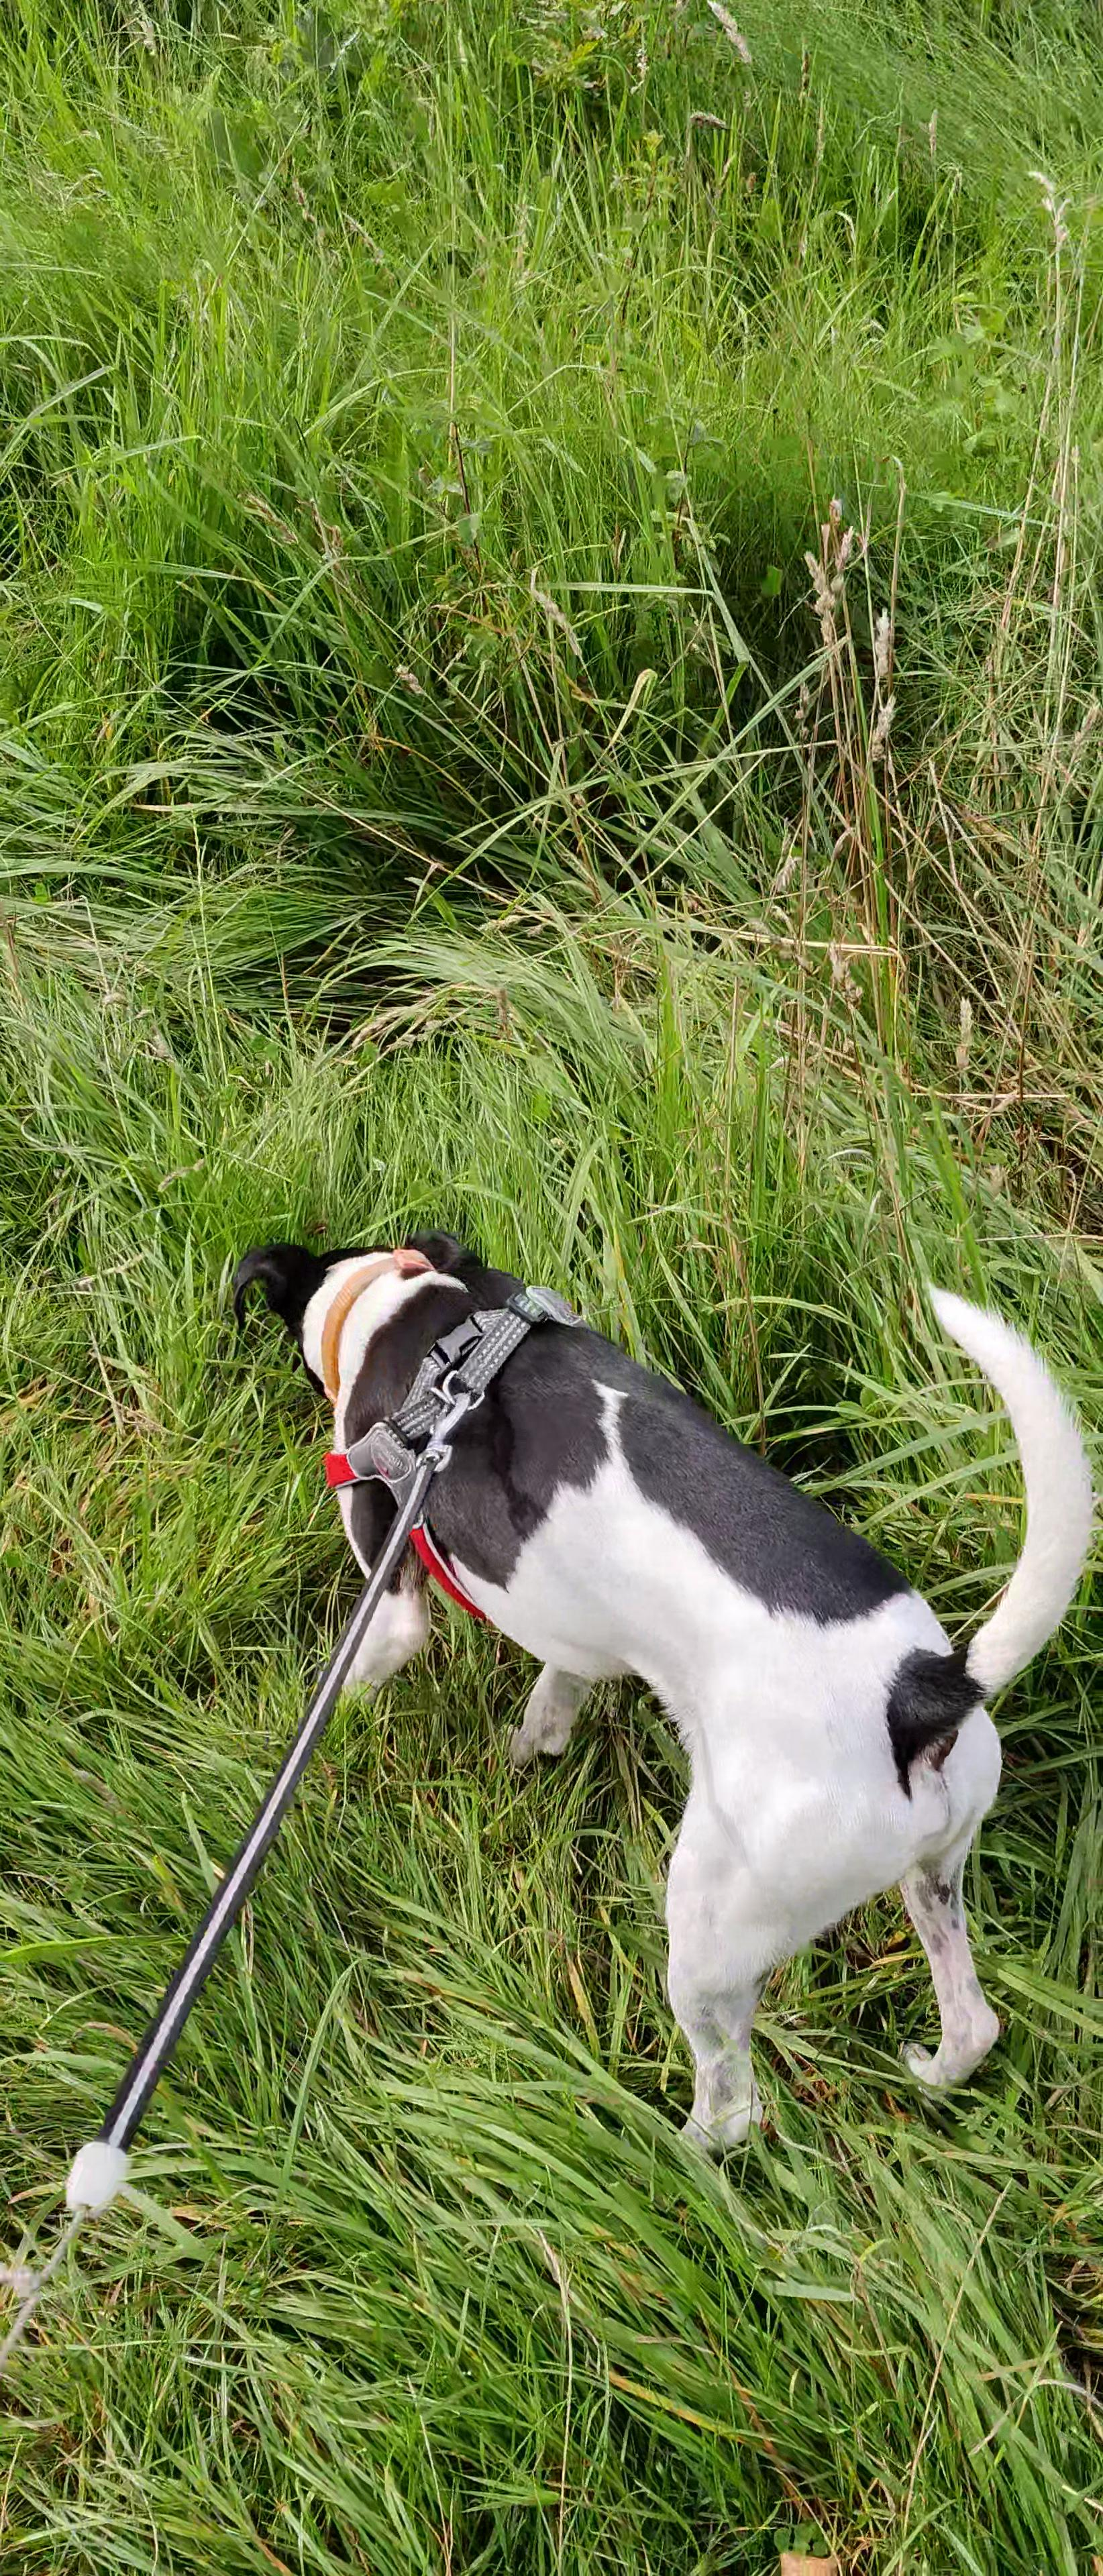Dog: (224, 1221, 1095, 2150)
